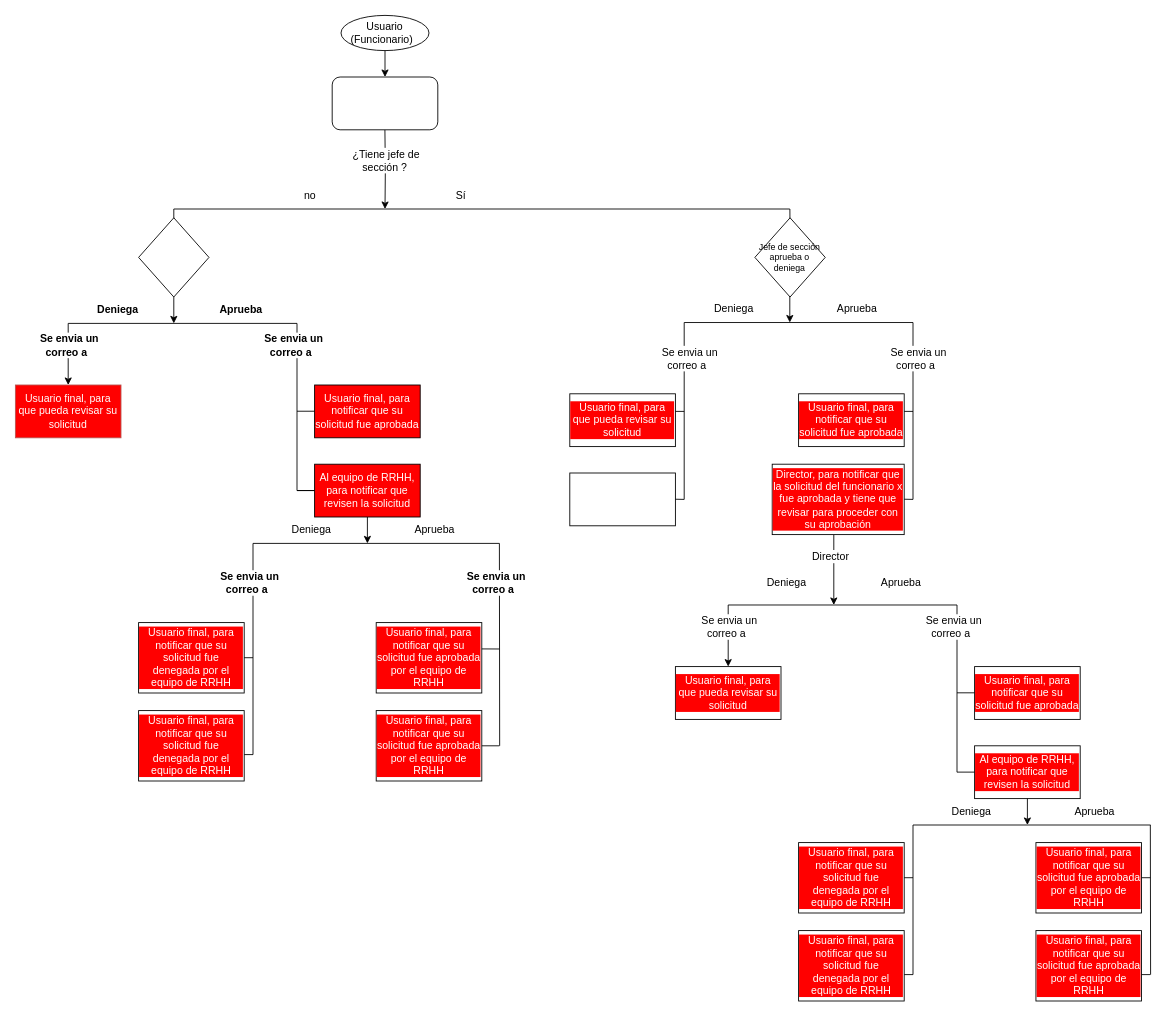
Image size: 1167x1016. Some labels were removed from this diagram. The centre of each missing label's shape, as x and y in pixels:
Director aprueba o deniega: pixel 173 257
Director, para notificar que la solicitud del funcionario x fue denegada: pixel 622 499
envia el correo: pixel 384 103
